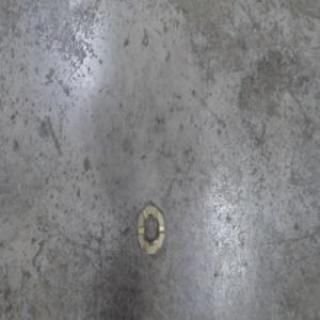Nuttrack_idkeyframe: (135, 198, 165, 258)
